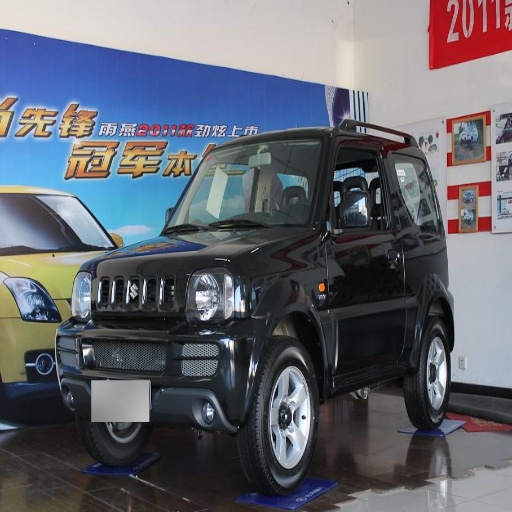front_bumper: (4, 256, 259, 461)
front_glass: (163, 137, 325, 233)
front_left_door: (327, 138, 402, 369)
